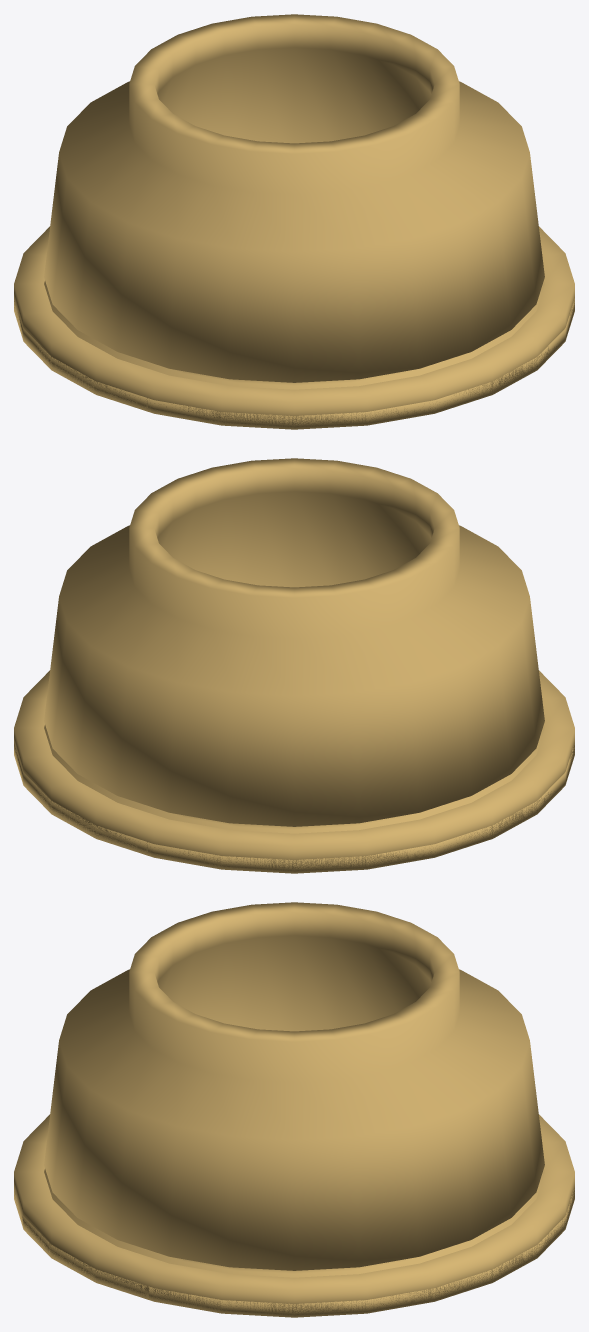
Rendered from rifle-case.glb.
The picture shows the model from 3 angles, top to bottom: view 1: azimuth 30°, elevation 25°; view 2: azimuth 150°, elevation 25°; view 3: azimuth 270°, elevation 25°; orthographic projection.
Parts seen in each view (by area): view 1: open-case-body, case-head; view 2: open-case-body, case-head; view 3: open-case-body, case-head.
Part boxes in pixels (x1,y1,x2,y2): open-case-body: (14,14,574,429); case-head: (14,226,574,429); open-case-body: (14,458,574,873); case-head: (14,670,574,873); open-case-body: (14,902,574,1317); case-head: (14,1114,574,1317).
Bounding box in the file's own units: 2.24 × 1.01 × 2.24.
